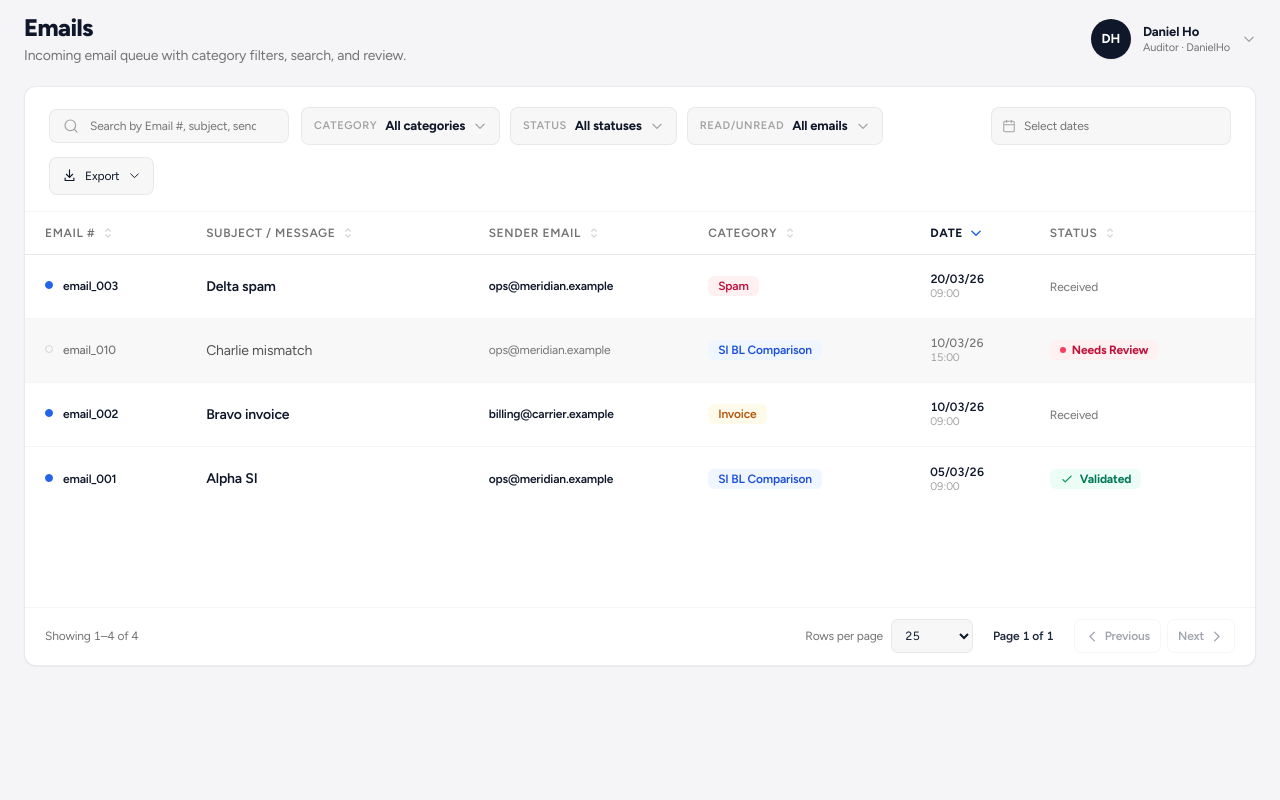
Test case: Emails review › opens emails read-only for an auditor
The width and height of the screenshot is (1280, 800).
Click the text "Bravo invoice". click: (248, 414)
box: [206, 406, 290, 423]
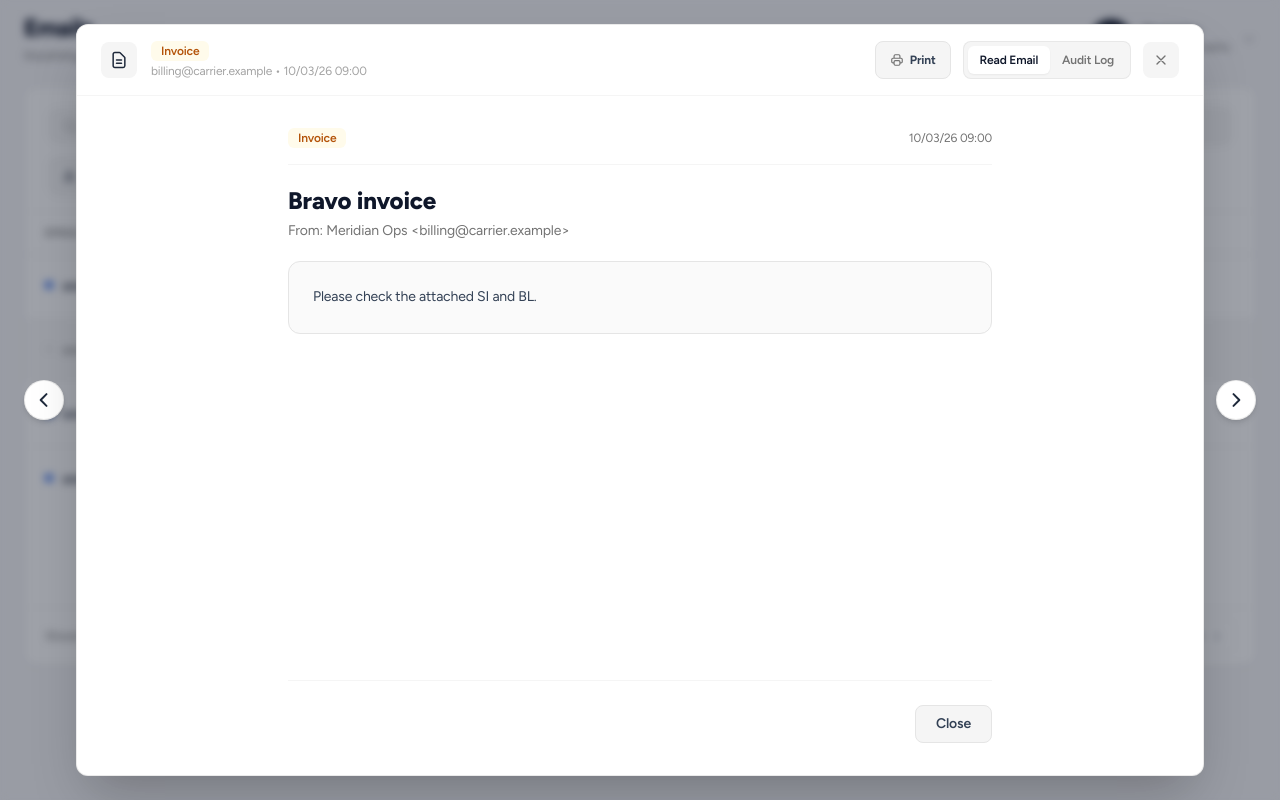
Result: the dialog is shown
